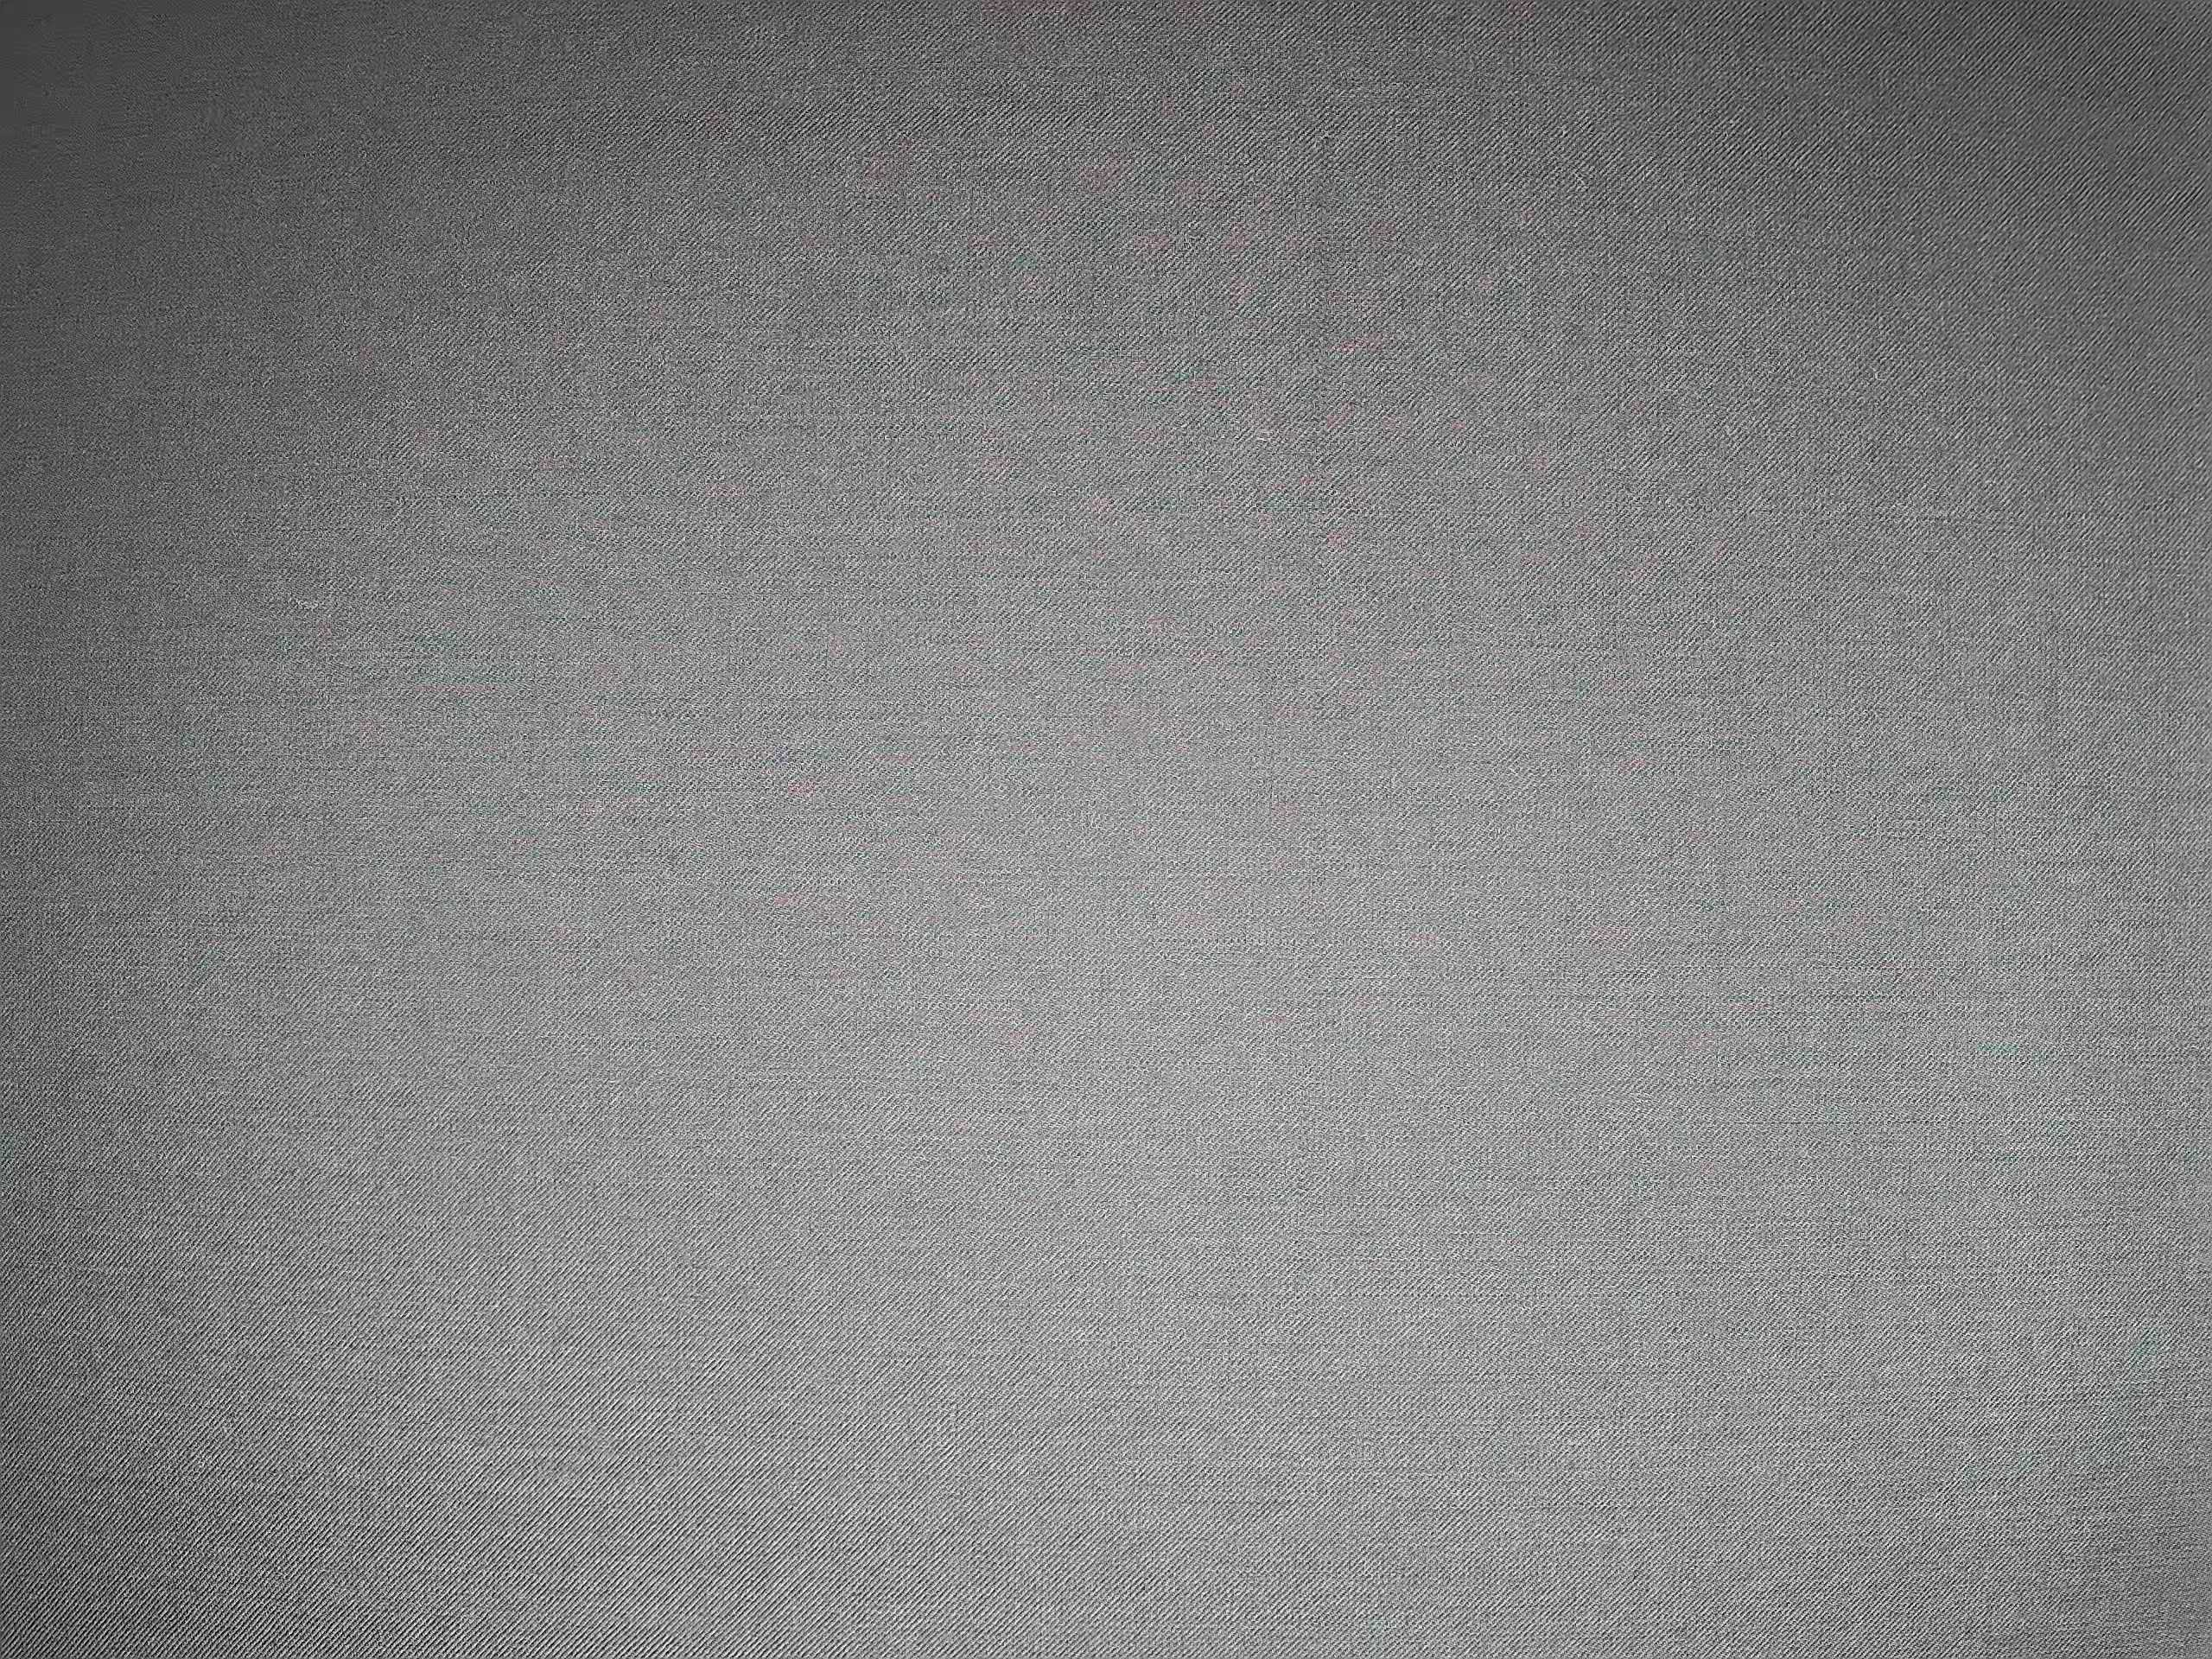hanging-warp: (1287, 23, 1360, 591)
